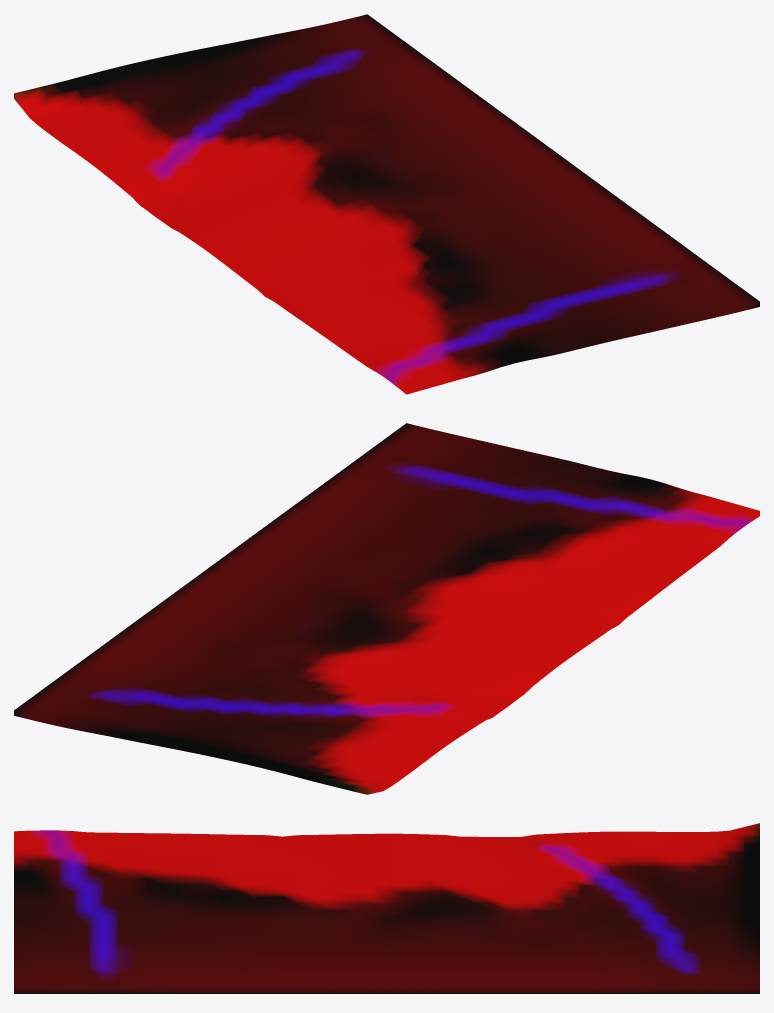
The model's file is coast_10_12.glb.
The picture shows the model from 3 angles, top to bottom: view 1: azimuth 30°, elevation 25°; view 2: azimuth 150°, elevation 25°; view 3: azimuth 270°, elevation 25°; orthographic projection. The views are drawn at different scales.
Visible parts, largest first — view 1: terrain; view 2: terrain; view 3: terrain.
Part boxes in pixels (x1=…): terrain: x1=14, y1=14, x2=759, y2=394; terrain: x1=14, y1=423, x2=759, y2=794; terrain: x1=14, y1=823, x2=759, y2=993.
Bounding box in the file's own units: 104 × 5.92 × 200.
